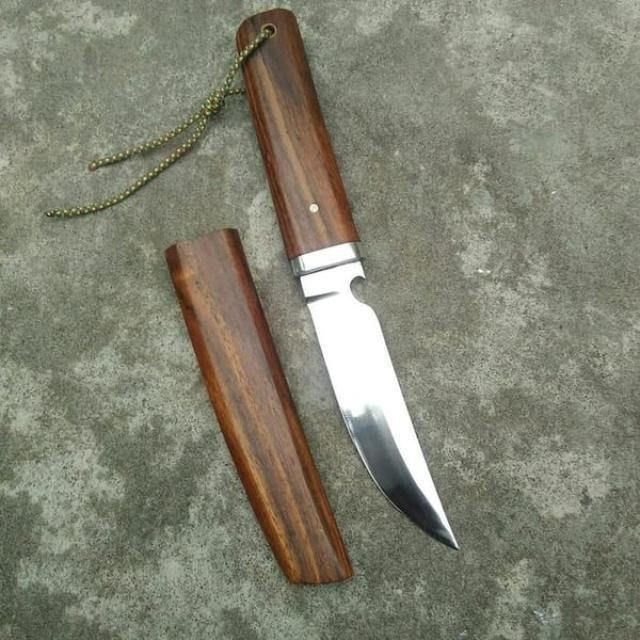Pisau: (221, 11, 474, 568)
